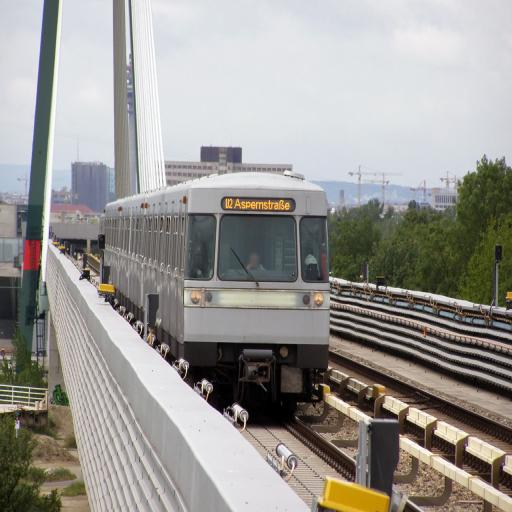Silberpfeil: (104, 170, 332, 376)
